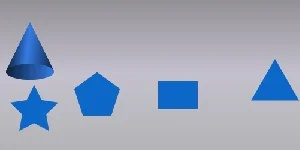三角形: (248, 57, 300, 105)
五角星形: (10, 84, 58, 133)
五边形: (73, 71, 121, 118)
圆锥体: (5, 20, 55, 81)
矩形: (154, 78, 202, 112)
